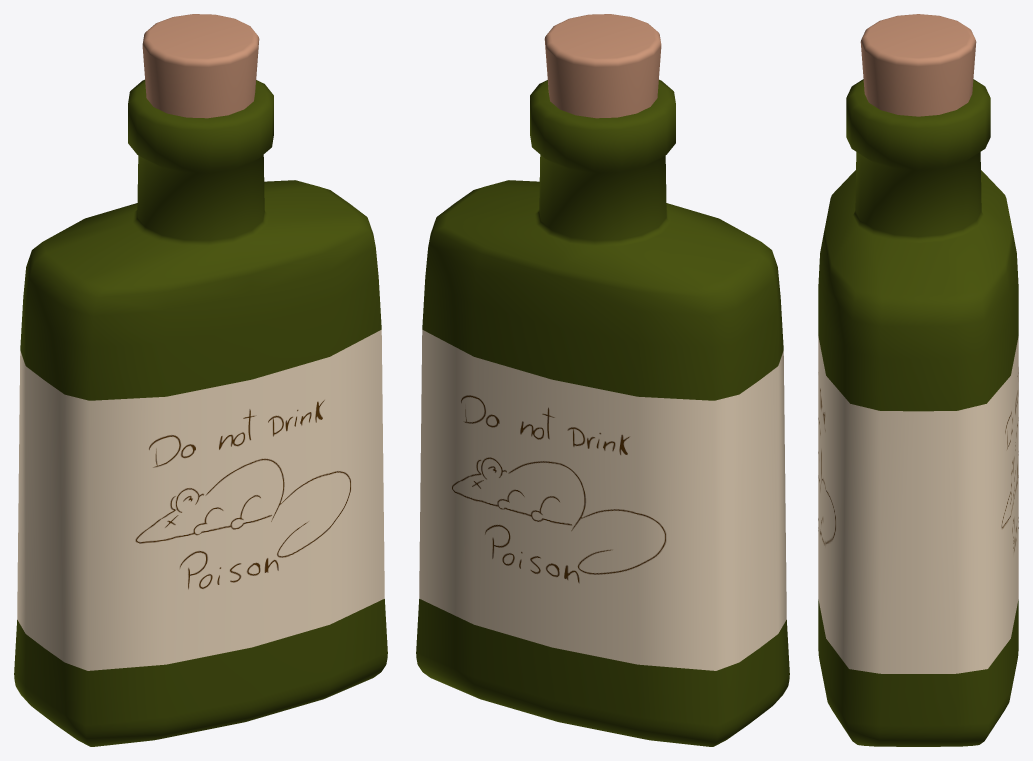
The model's file is rat poison 1.fbx.
3 renders of one model, left to right at view 1: azimuth 30°, elevation 25°; view 2: azimuth 150°, elevation 25°; view 3: azimuth 270°, elevation 25°, orthographic.
Visible parts, largest first — view 1: garrafa, rolha; view 2: garrafa, rolha; view 3: garrafa, rolha.
Part boxes in pixels (x1,y1,x2,y2): garrafa: (14,79,387,746); rolha: (142,14,259,118); garrafa: (416,79,789,746); rolha: (544,14,661,118); garrafa: (818,79,1018,746); rolha: (860,14,976,116).
Bounding box in the file's own units: 171 × 345 × 96.64.
Materials: 4 (1 with a texture image).
